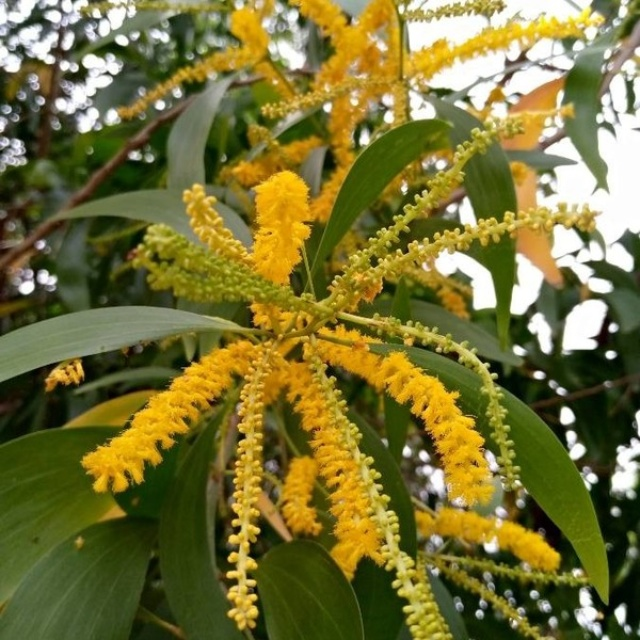obstacle: (113, 122, 593, 577)
